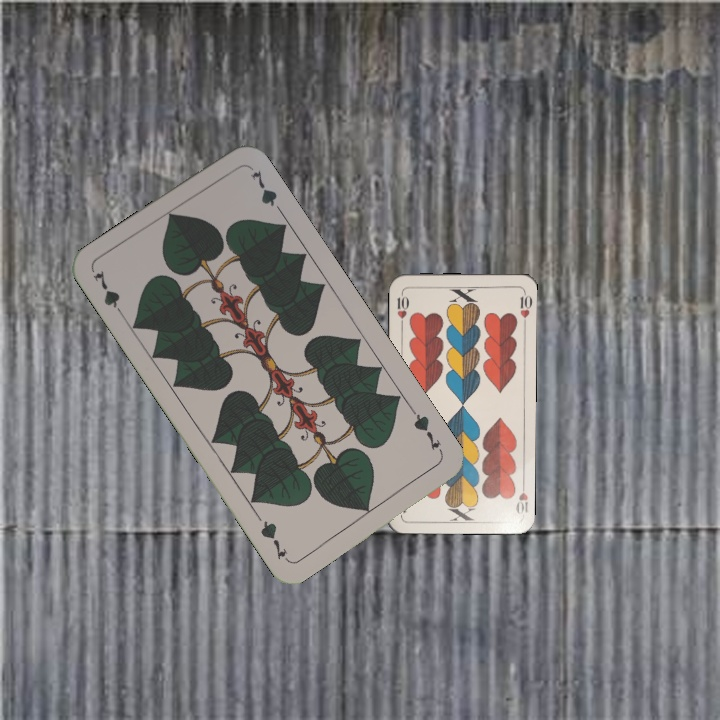G7: (89, 266, 128, 321), (407, 405, 446, 458)
H10: (393, 288, 411, 328), (512, 478, 530, 517)
